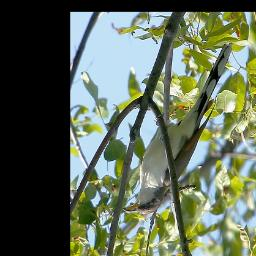Cuckoo: (122, 42, 234, 216)
